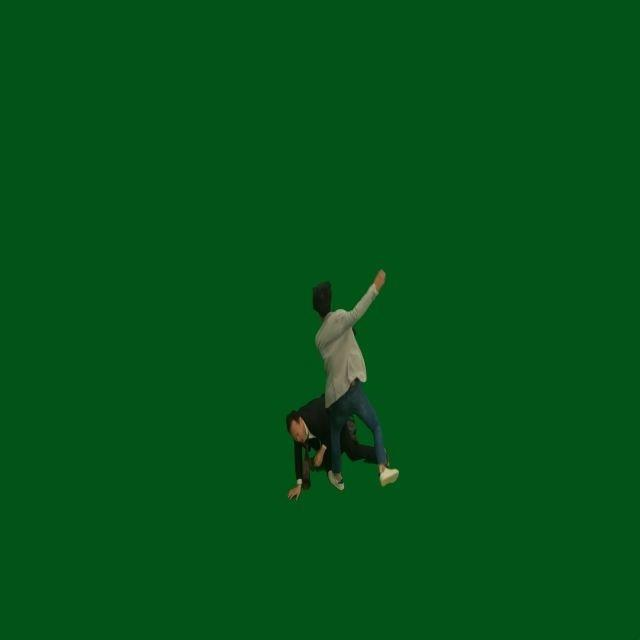fight: (273, 261, 398, 503)
